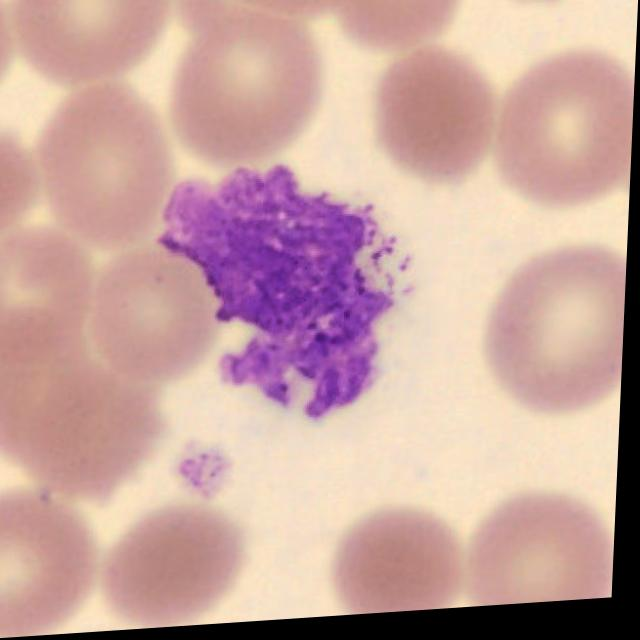Restos celulares: (161, 166, 415, 424)
